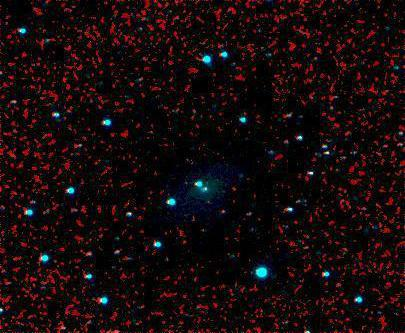star: (192, 181, 222, 211)
